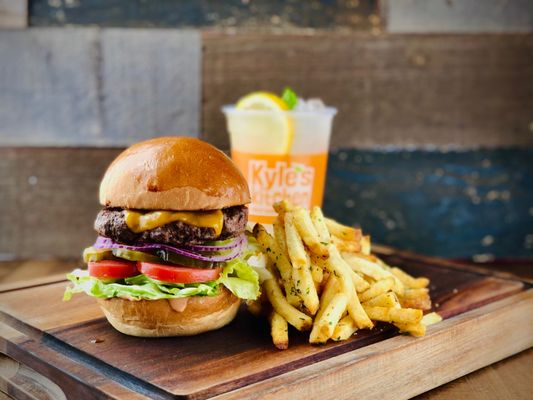soup: (64, 136, 263, 338)
